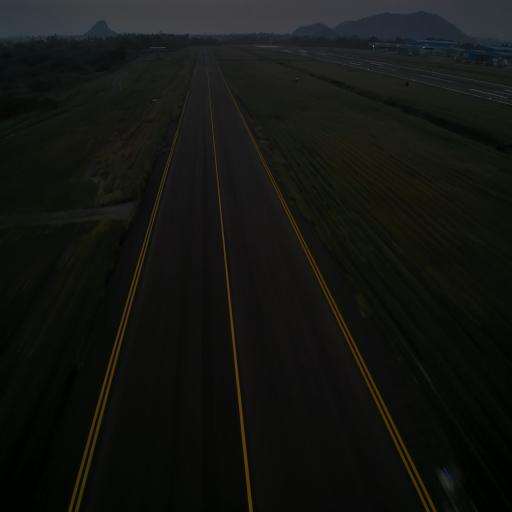on: (439, 460, 456, 491)
